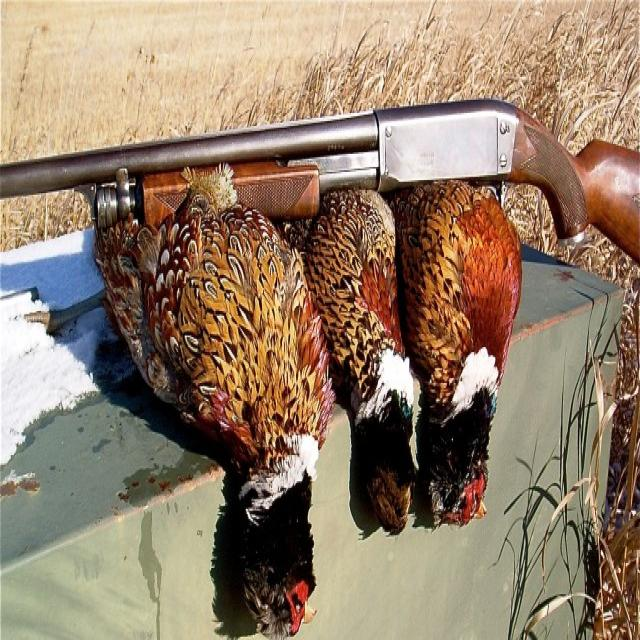ShotGun: (0, 100, 640, 265)
